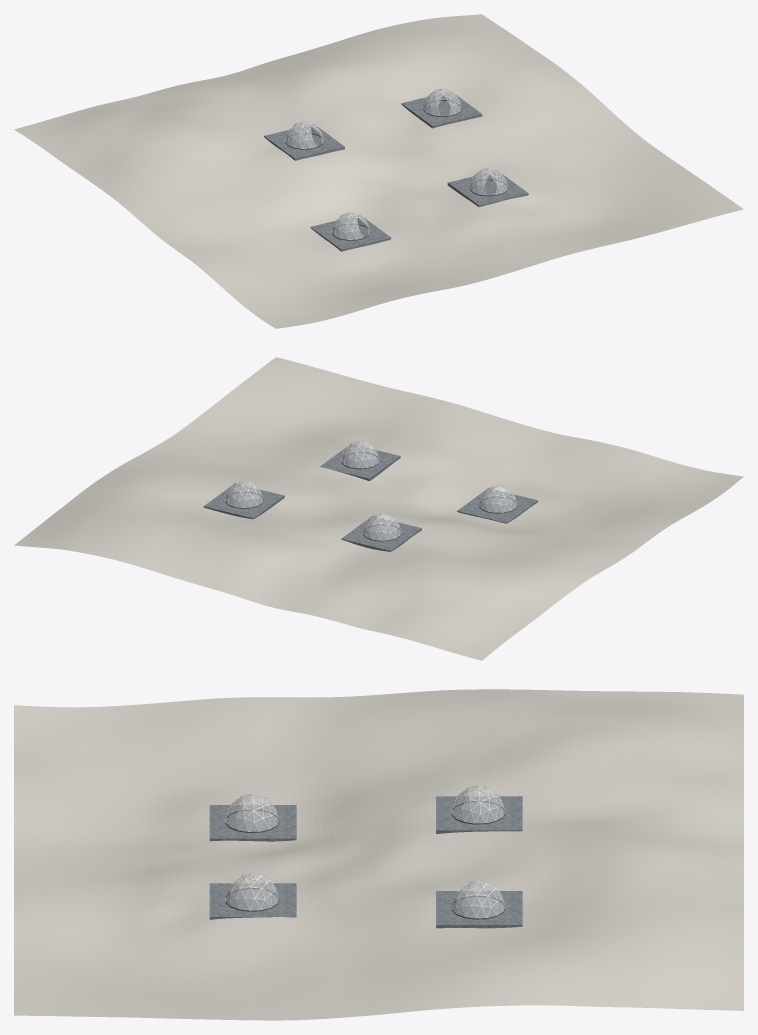
Rendered from Domo-Ex.glb.
The picture shows the model from 3 angles, top to bottom: view 1: azimuth 30°, elevation 25°; view 2: azimuth 150°, elevation 25°; view 3: azimuth 270°, elevation 25°; orthographic projection. The views are drawn at different scales.
Visible parts, largest first — view 1: Geom3D (×9); view 2: Geom3D (×9); view 3: Geom3D (×13).
Part boxes in pixels (left/top/right/bottom): Geom3D (×9): left=14, top=14, right=743, bottom=328; Geom3D (×9): left=14, top=357, right=743, bottom=660; Geom3D (×13): left=14, top=689, right=743, bottom=1020.
Bounding box in the file's own units: 50 × 4.97 × 48.5.
6 materials, 2 textured.
